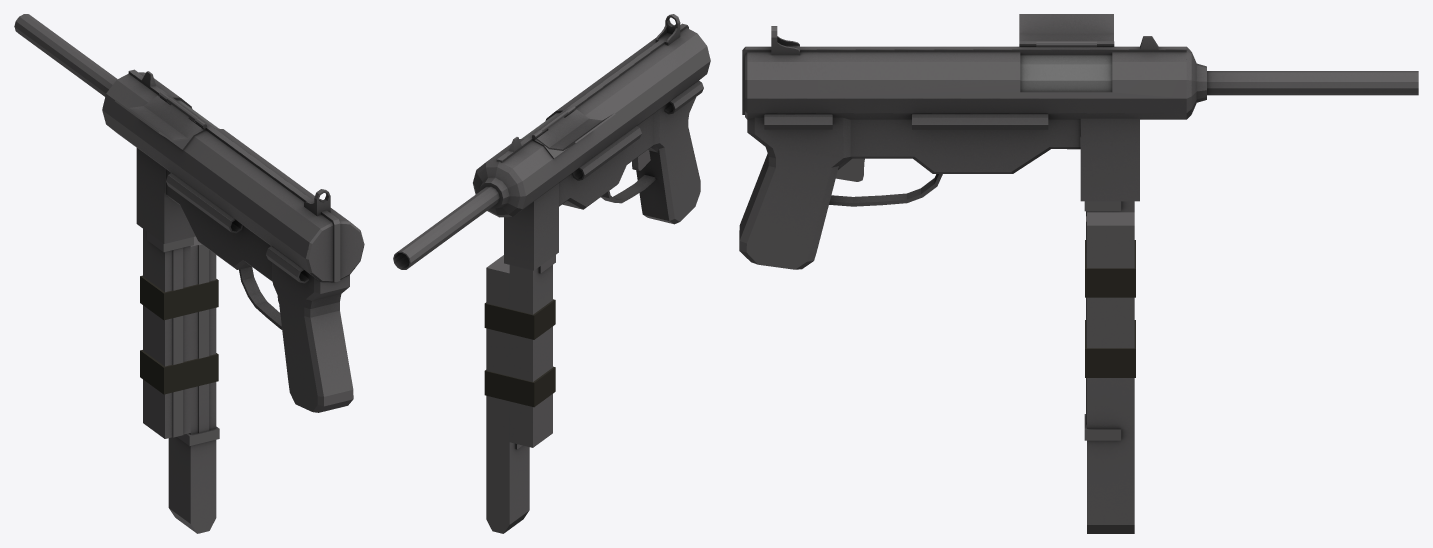
File: Grease_Gun.fbx
3 views of the same model, side by side, from view 1: azimuth 30°, elevation 25°; view 2: azimuth 150°, elevation 25°; view 3: azimuth 270°, elevation 25° (orthographic). The views are drawn at different scales.
Parts seen in each view (by area): view 1: Grease_Gun_Body, M3A1_Magazine_Dual, Grease_Gun_Magazine, Dual_Tape_2, Dual_Tape_1, Grease_Gun_Cover; view 2: Grease_Gun_Body, M3A1_Magazine_Dual, Grease_Gun_Magazine, Dual_Tape_1, Dual_Tape_2, Grease_Gun_Cover; view 3: Grease_Gun_Body, M3A1_Magazine_Dual, Grease_Gun_Cover, Dual_Tape_1, Dual_Tape_2.
Boxes of the visible parts, x1,y1,x2,y2 form: Grease_Gun_Body: [14, 14, 364, 412]; M3A1_Magazine_Dual: [168, 236, 219, 533]; Grease_Gun_Magazine: [143, 229, 193, 438]; Dual_Tape_2: [140, 350, 218, 394]; Dual_Tape_1: [140, 275, 218, 320]; Grease_Gun_Cover: [115, 96, 201, 141]; Grease_Gun_Body: [393, 14, 710, 270]; M3A1_Magazine_Dual: [486, 255, 529, 533]; Grease_Gun_Magazine: [509, 255, 555, 447]; Dual_Tape_1: [484, 299, 555, 339]; Dual_Tape_2: [484, 366, 555, 407]; Grease_Gun_Cover: [536, 109, 615, 150]; Grease_Gun_Body: [739, 26, 1418, 269]; M3A1_Magazine_Dual: [1084, 212, 1134, 533]; Grease_Gun_Cover: [1019, 14, 1113, 46]; Dual_Tape_1: [1085, 240, 1135, 297]; Dual_Tape_2: [1085, 320, 1135, 377].
Size of the model in its own units: 13.36 by 63.49 by 79.63.
